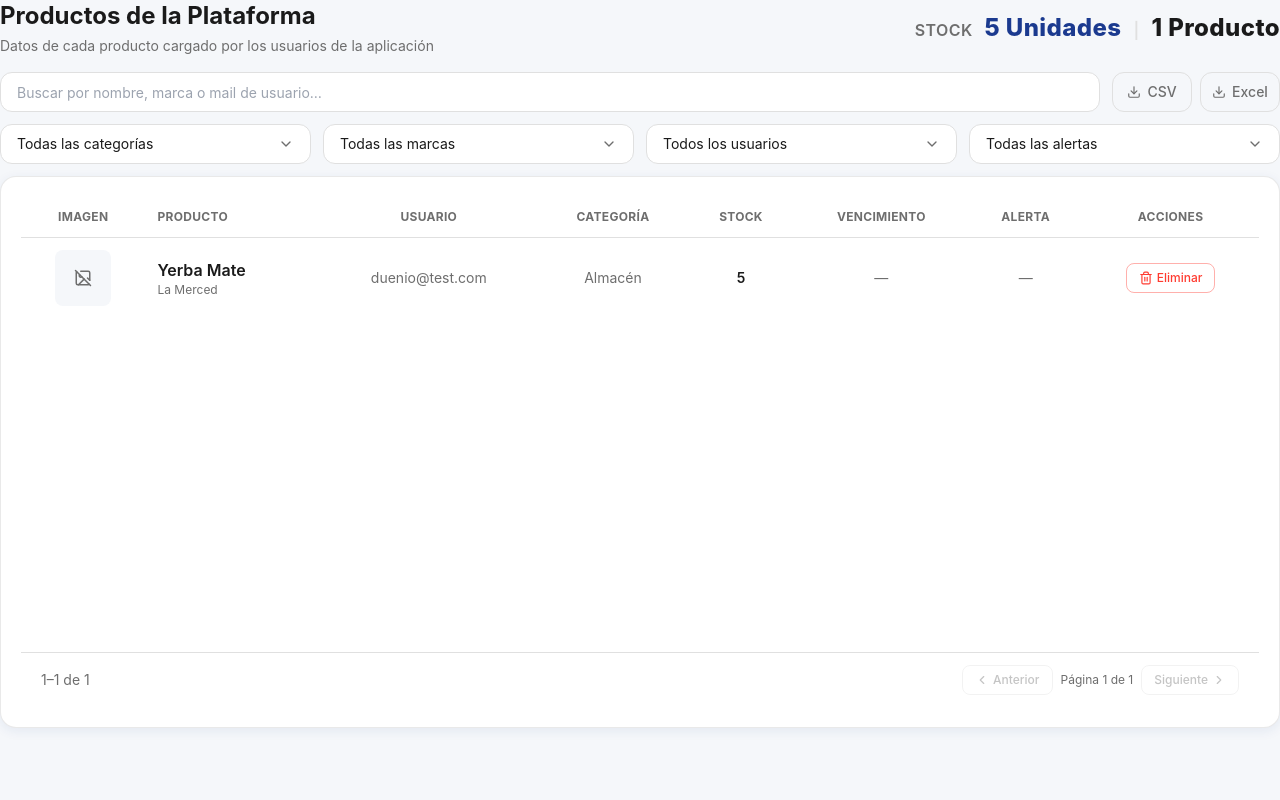
Test: Products (admin) - formato del inventario › la alerta trae la explicación completa y, si es una predicción, la medalla «Predicción»
Click the row with test id "product-row-1": (640, 278) [21,238,1259,318]
(page scrolled)
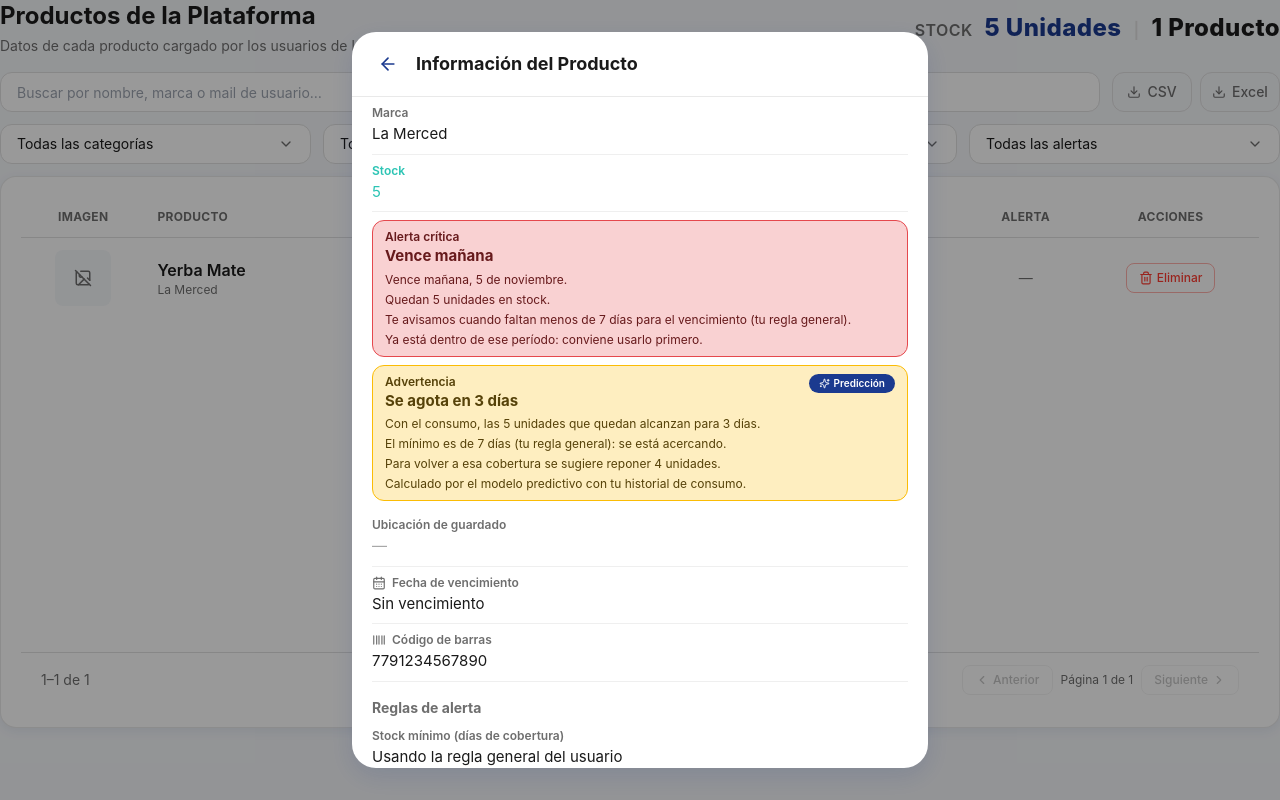
Now the element with test id "product-detail-alert-0" shows "Queda", box [385,292,550,306]
Now the element with test id "product-detail-alert-0" shows "Te avisamos cuando faltan menos de 7 días", box [385,312,851,326]
Now the element with test id "product-detail-alert-prediction-1" reads "Predicción", box [834,376,885,388]
